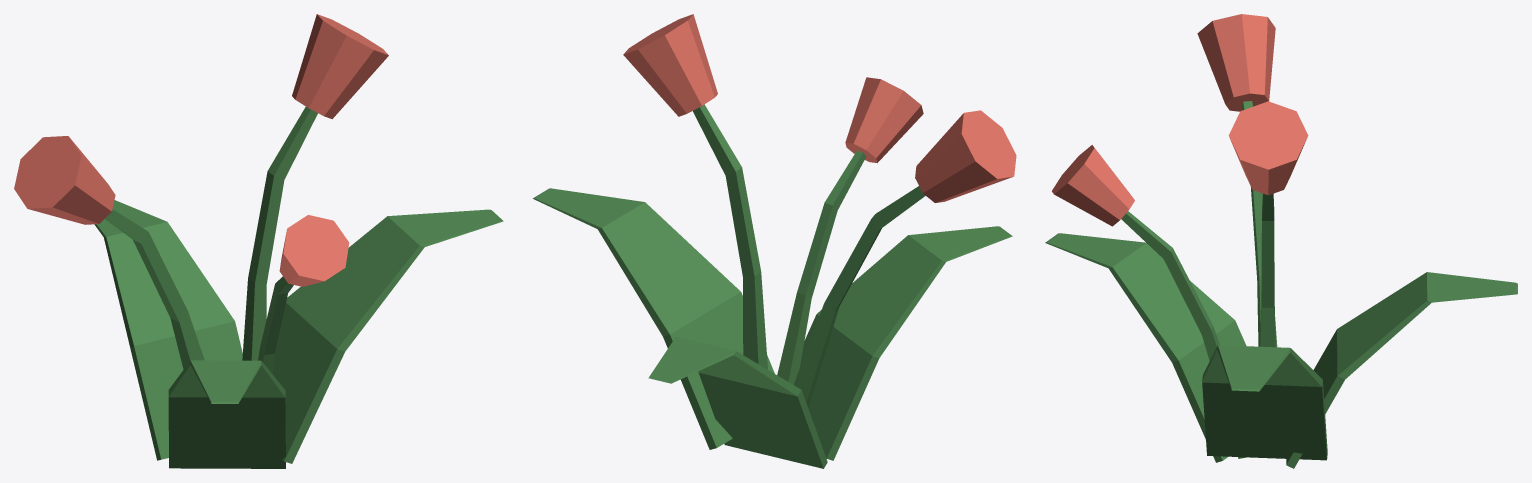
File: flower-04.glb
3 renders of one model, left to right at view 1: azimuth 30°, elevation 25°; view 2: azimuth 150°, elevation 25°; view 3: azimuth 270°, elevation 25°, orthographic. The views are drawn at different scales.
Parts seen in each view (by area): view 1: Flower1; view 2: Flower1; view 3: Flower1.
Boxes of the visible parts, x1,y1,x2,y2 form: Flower1: (14,14,503,468); Flower1: (533,14,1016,468); Flower1: (1045,14,1517,468).
Size of the model in its own units: 1.14 by 0.9355 by 1.02.
